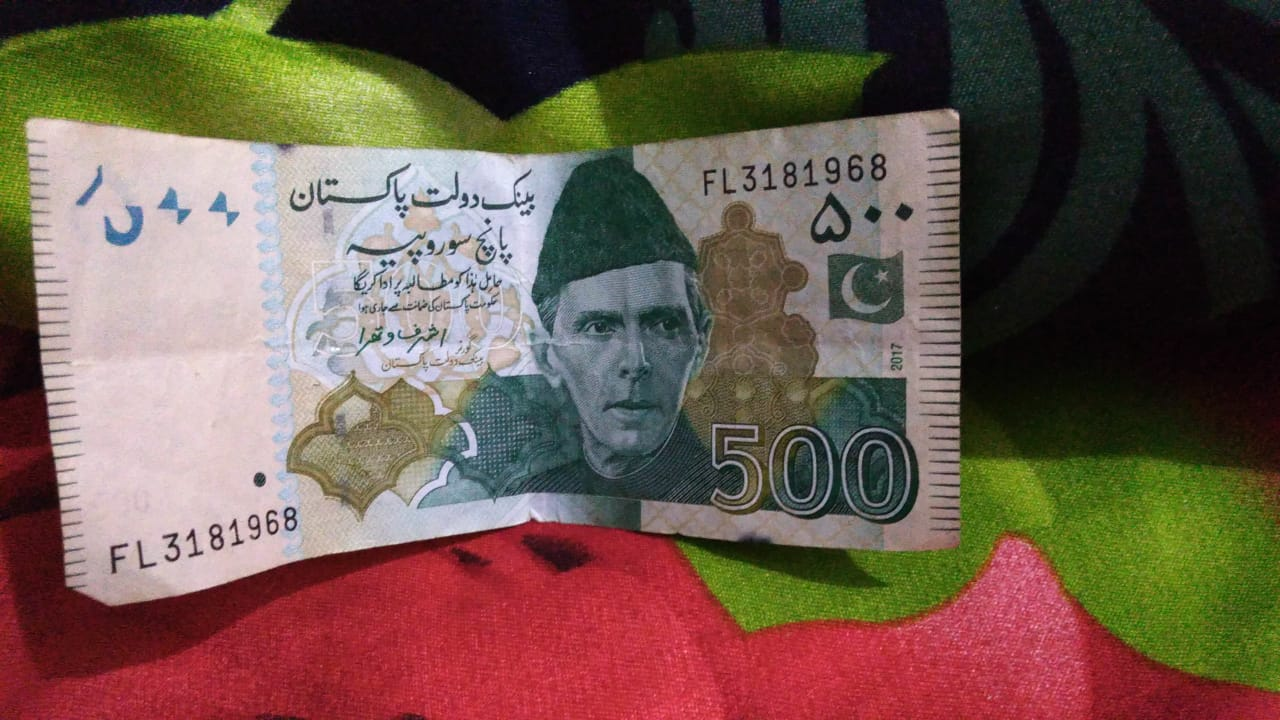500 rupee: (34, 113, 970, 607)
